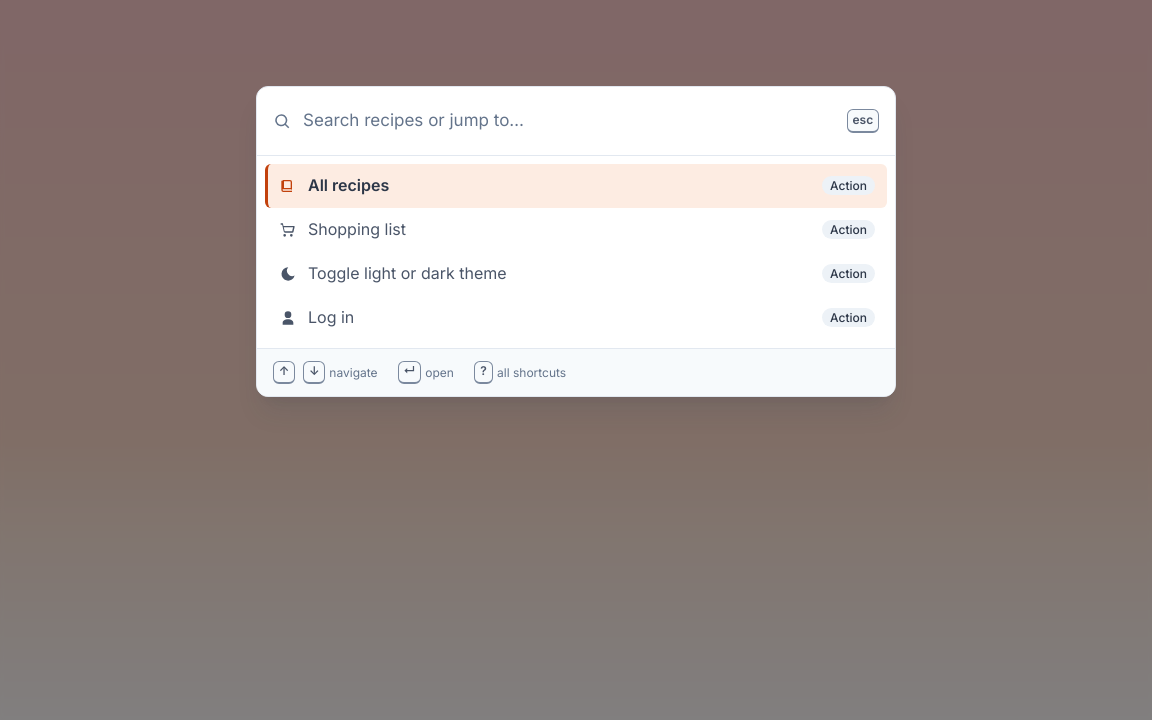
it: CommandPalette › searches recipes once the query is long enough
The image size is (1152, 720).
Type "karahi" into the dropdown.
click(569, 121); type("karahi")  # box [303,99,835,143]
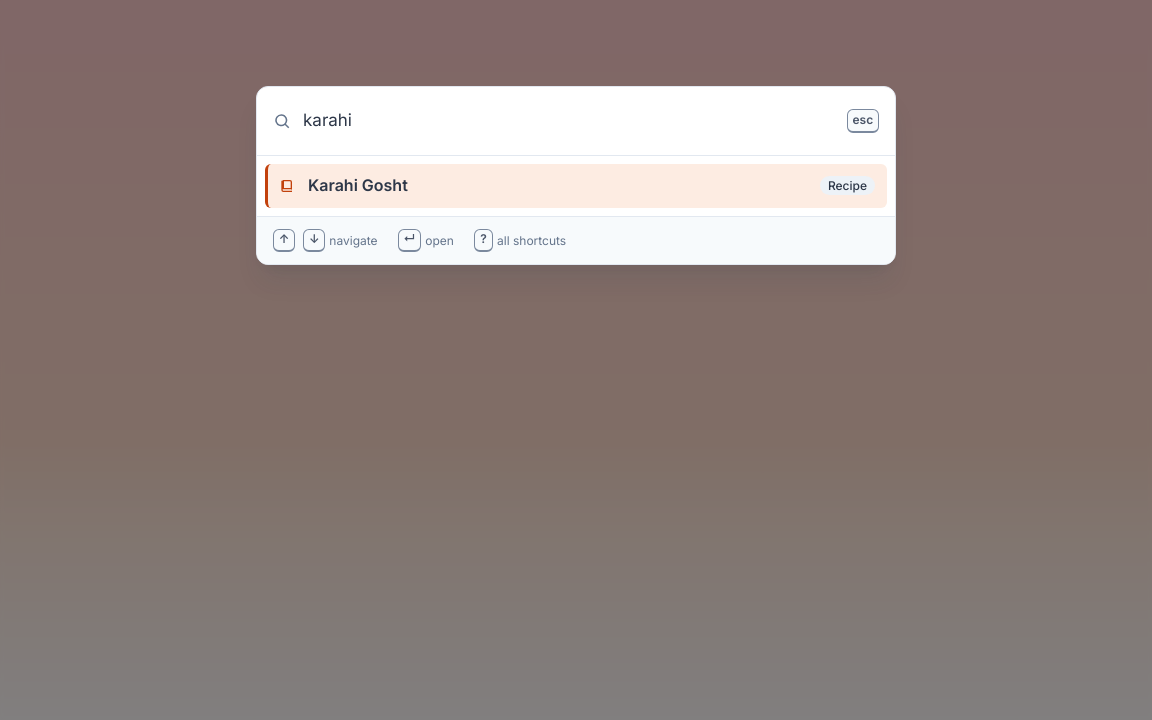
Now the option "Karahi Gosht Recipe" is shown, box [265,164,887,208]
